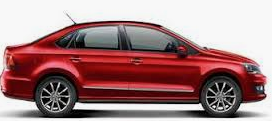car: (1, 19, 269, 118)
